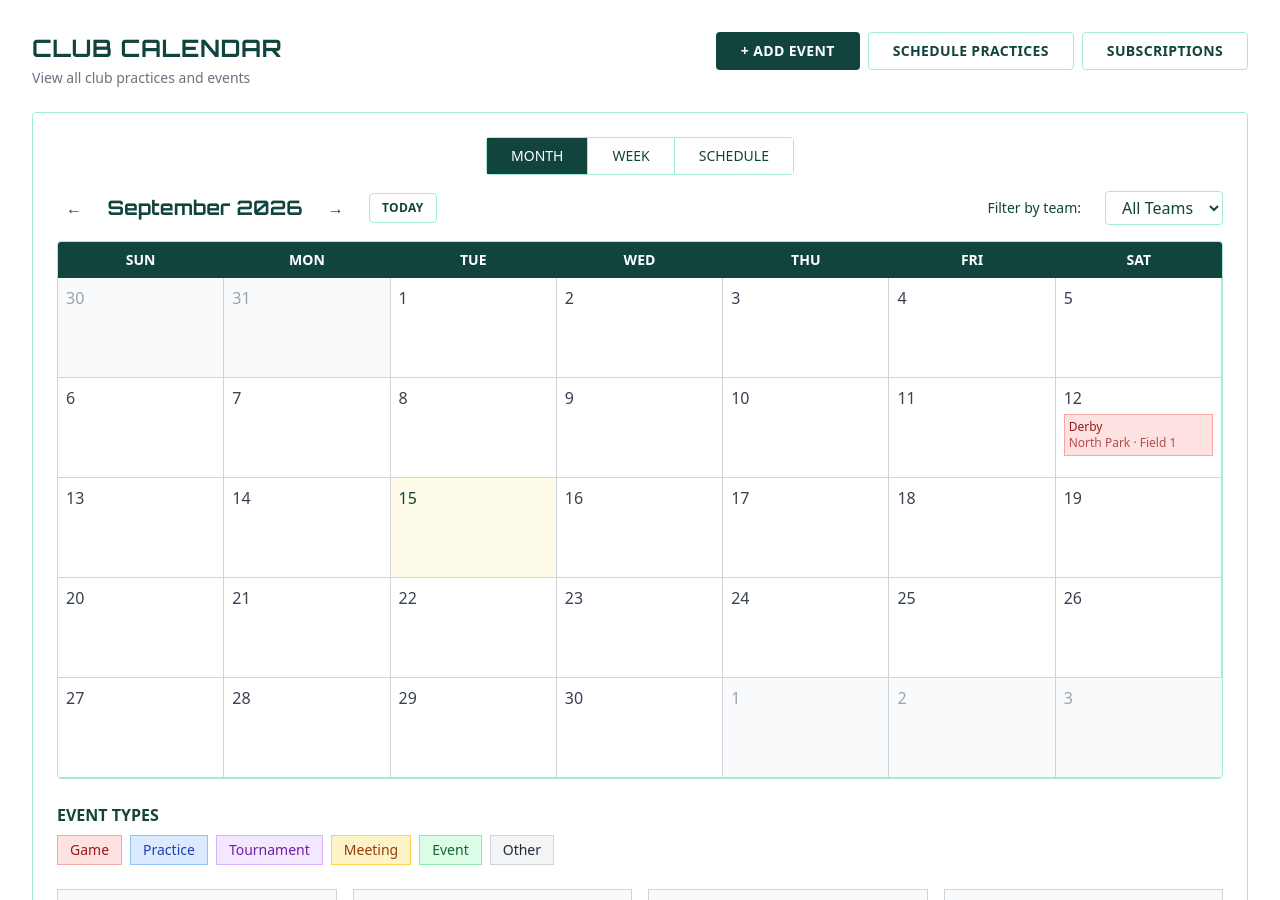
Scenario: A game on a field (migration 100) › shows "Venue · Field" on the card and in the modal header
What coordinates should you click on to do the following:
click the text "Derby"
I would click on:
 (1086, 426)
Its box is [1069,418,1102,435].
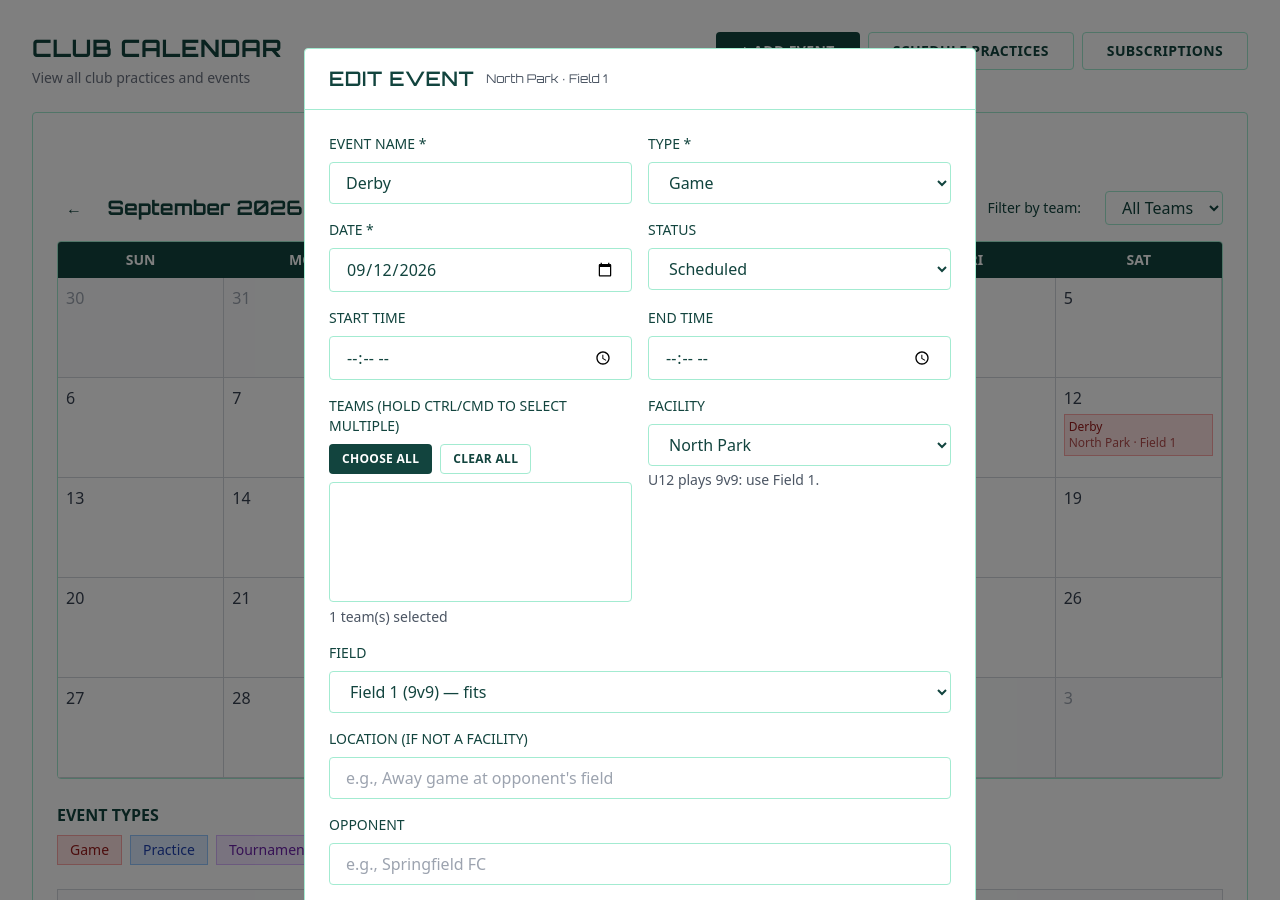
Check: the heading "Edit Event North Park · Field 1" is shown, box [329,66,608,91]
